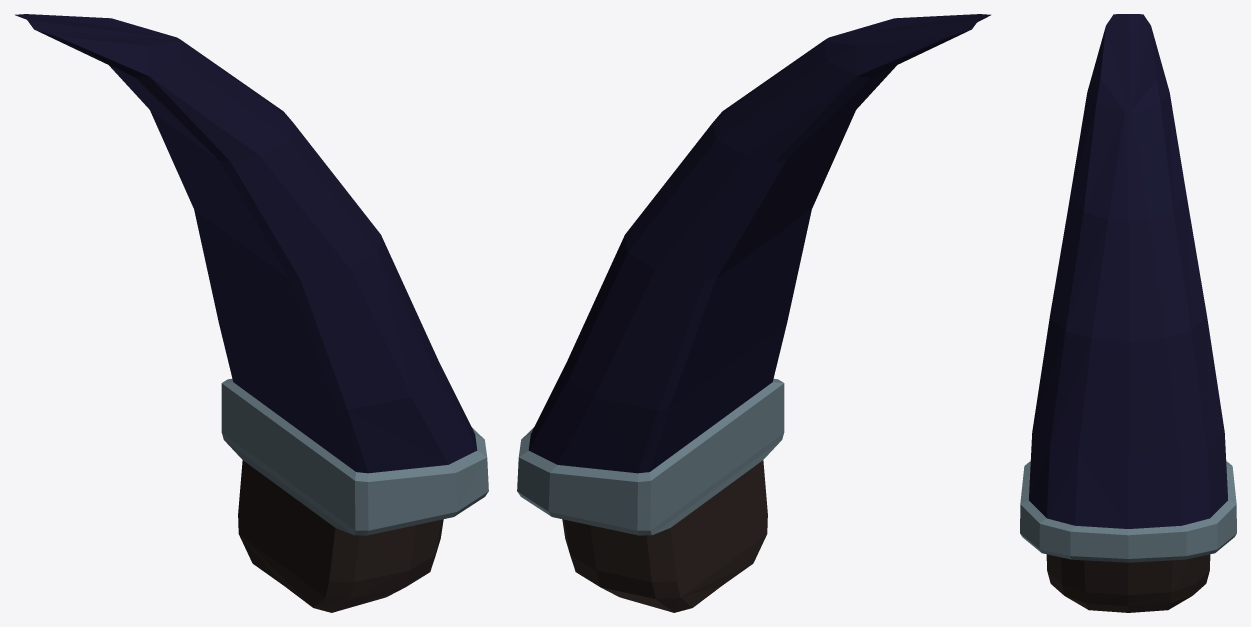
Rendered from character_mageArnLeft.obj.
The picture shows the model from 3 angles, left to right: view 1: azimuth 30°, elevation 25°; view 2: azimuth 150°, elevation 25°; view 3: azimuth 270°, elevation 25°; orthographic projection. The views are drawn at different scales.
Parts seen in each view (by area): view 1: character_mageArnLeft_Cube.3976; view 2: character_mageArnLeft_Cube.3976; view 3: character_mageArnLeft_Cube.3976.
Part boxes in pixels (x1,y1,x2,y2): character_mageArnLeft_Cube.3976: (15,14,488,612); character_mageArnLeft_Cube.3976: (517,14,990,612); character_mageArnLeft_Cube.3976: (1020,14,1236,612).
Bounding box in the file's own units: 0.4036 × 0.5708 × 0.2371.
